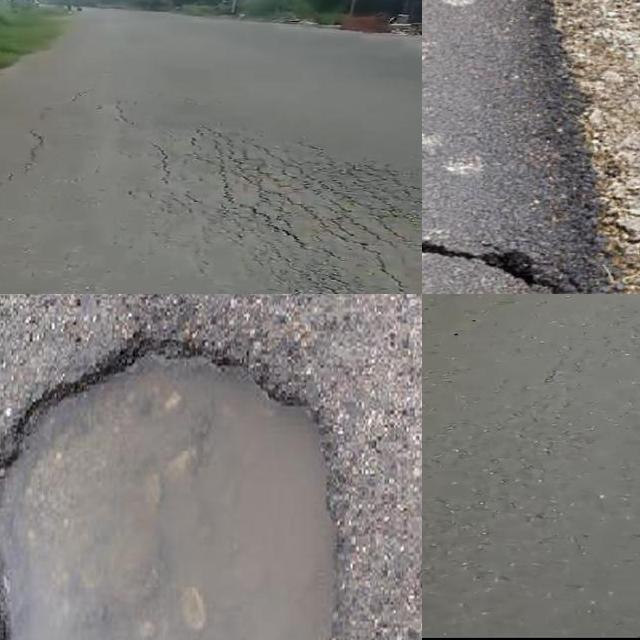Lubang: (0, 342, 340, 640)
Pinggir: (422, 0, 627, 294)
Retak Buaya: (183, 137, 422, 247)
